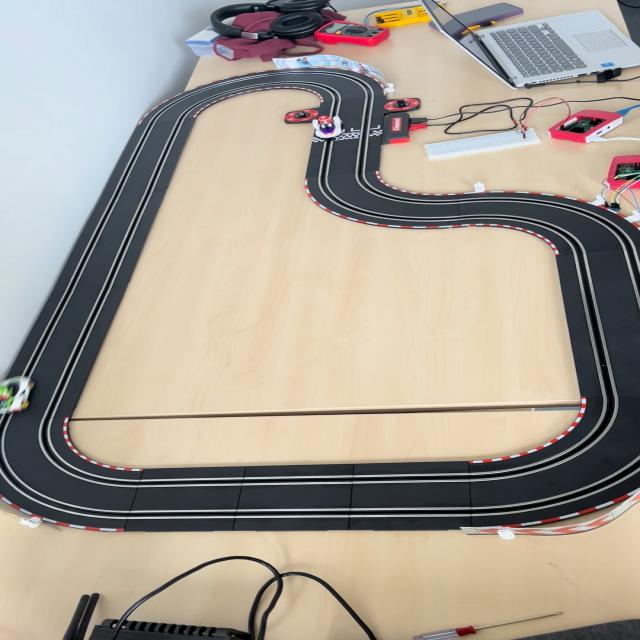mario: (310, 115, 344, 140)
yoshi: (0, 374, 37, 416)
